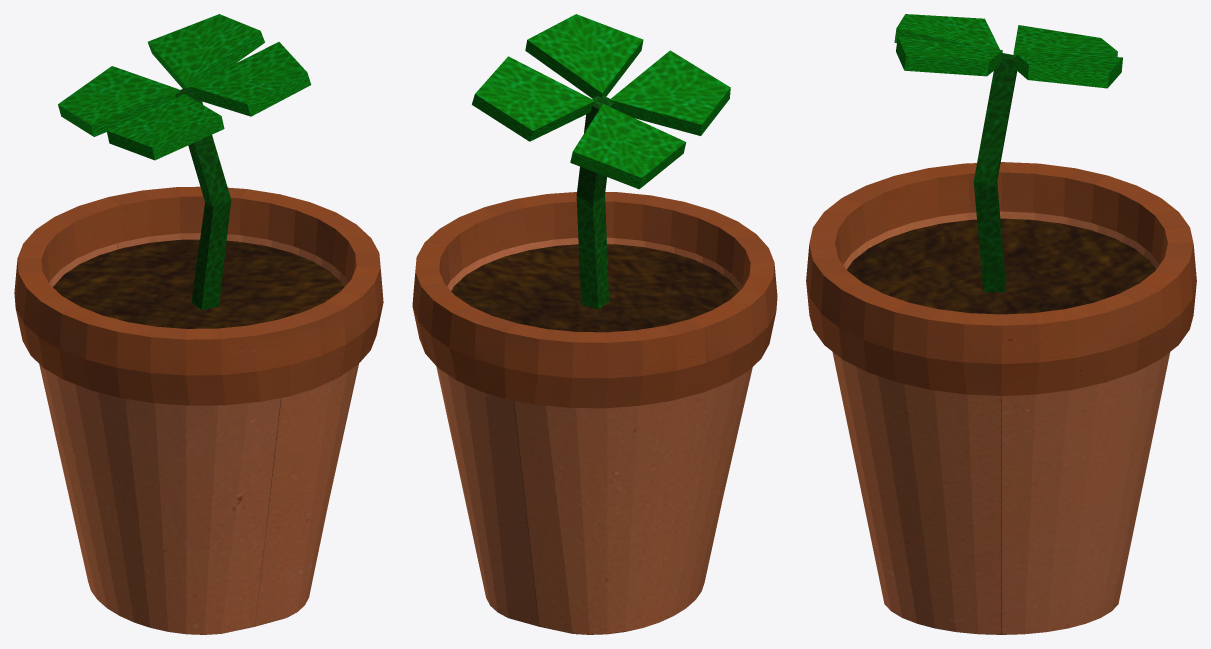
The model's file is TREVO4FOLHAS_completo.fbx.
3 renders of one model, left to right at view 1: azimuth 30°, elevation 25°; view 2: azimuth 150°, elevation 25°; view 3: azimuth 270°, elevation 25°, orthographic. The views are drawn at different scales.
Parts seen in each view (by area): view 1: Corpo do Vaso, Borda do Vaso, Terra, Folha2, Folha1, Corpo da Planta, Folha4, Folha3; view 2: Corpo do Vaso, Borda do Vaso, Terra, Folha3, Folha2, Folha1, Folha4, Corpo da Planta; view 3: Corpo do Vaso, Borda do Vaso, Terra, Corpo da Planta, Folha2, Folha1, Folha3, Folha4.
Part boxes in pixels (x1,y1,x2,y2): Corpo do Vaso: [39, 233, 358, 634]; Borda do Vaso: [14, 186, 383, 405]; Terra: [53, 239, 344, 328]; Folha2: [190, 42, 311, 116]; Folha1: [147, 14, 264, 88]; Corpo da Planta: [175, 87, 231, 310]; Folha4: [58, 66, 179, 136]; Folha3: [106, 94, 224, 160]; Corpo do Vaso: [436, 237, 752, 634]; Borda do Vaso: [412, 192, 777, 408]; Terra: [451, 244, 738, 332]; Folha3: [609, 50, 730, 135]; Folha2: [525, 14, 643, 98]; Folha1: [472, 56, 594, 141]; Folha4: [570, 104, 686, 189]; Corpo da Planta: [576, 95, 614, 309]; Corpo do Vaso: [832, 211, 1170, 634]; Borda do Vaso: [806, 162, 1196, 395]; Terra: [847, 218, 1155, 314]; Corpo da Planta: [973, 53, 1017, 292]; Folha2: [896, 36, 1002, 76]; Folha1: [1015, 54, 1122, 88]; Folha3: [894, 14, 999, 49]; Folha4: [1013, 25, 1117, 56].
Size of the model in its own units: 302 by 477 by 299.
